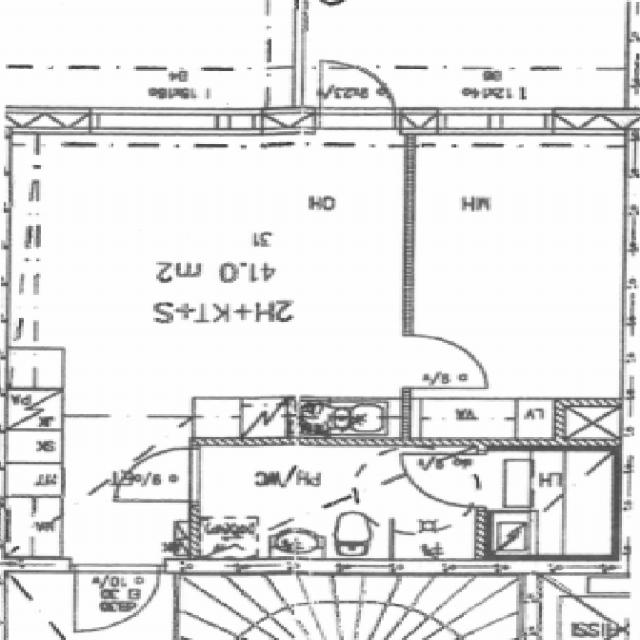door: (75, 561, 157, 633), (319, 56, 393, 135), (116, 450, 200, 503), (401, 336, 485, 389), (402, 456, 486, 508)
